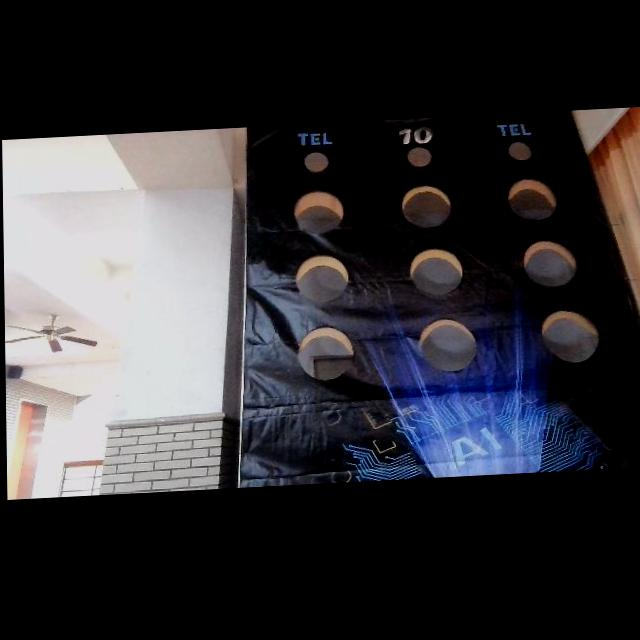hole: (419, 317, 476, 372), (543, 309, 598, 364), (300, 325, 352, 382), (526, 239, 576, 289), (293, 190, 346, 237), (298, 254, 348, 301), (412, 249, 462, 296), (401, 184, 451, 230), (508, 177, 557, 222), (303, 150, 329, 174), (407, 146, 432, 169), (507, 139, 531, 161)
